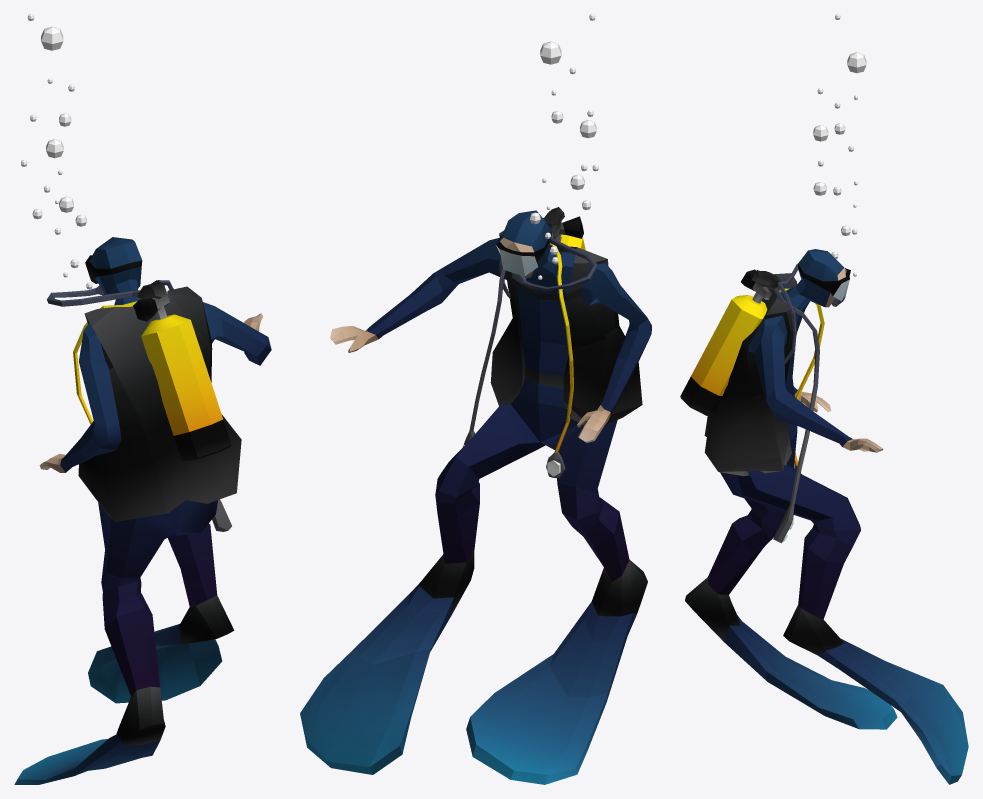
File: plongeur.fbx
The picture shows the model from 3 angles, left to right: view 1: azimuth 30°, elevation 25°; view 2: azimuth 150°, elevation 25°; view 3: azimuth 270°, elevation 25°; orthographic projection. The views are drawn at different scales.
Parts seen in each view (by area): view 1: pSphere21; view 2: pSphere21; view 3: pSphere21.
Part boxes in pixels (box(x1,y1,x2,y2)): pSphere21: box(14, 14, 271, 784); pSphere21: box(300, 14, 651, 784); pSphere21: box(680, 14, 968, 784).
Size of the model in its own units: 3.23 by 9.54 by 3.65.
